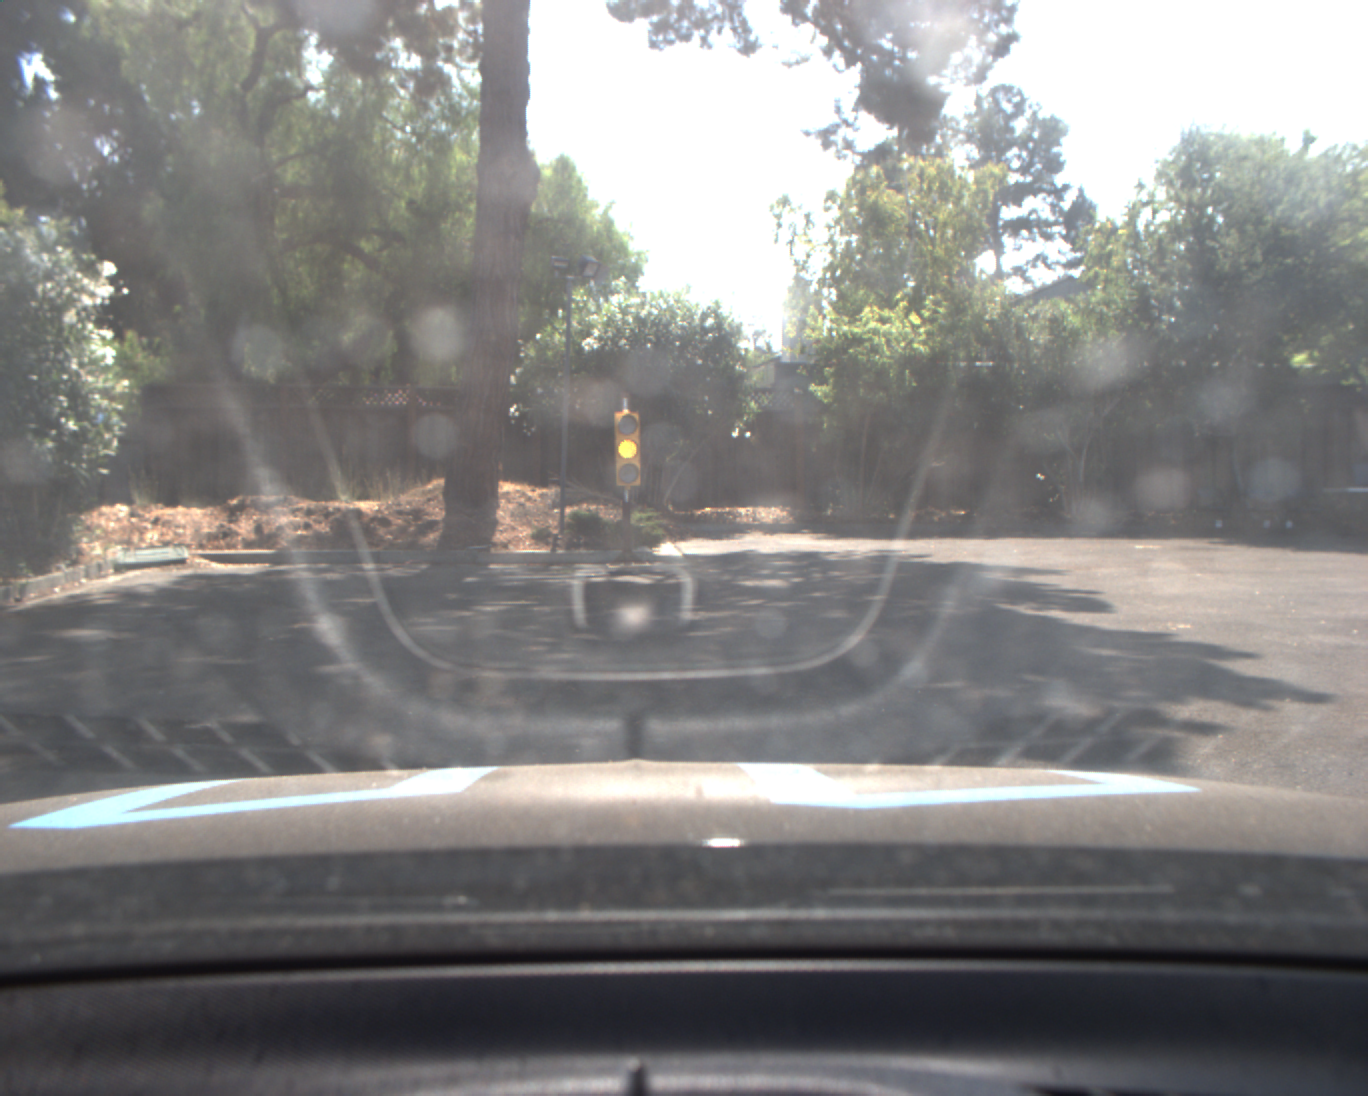yellow: (612, 410, 644, 486)
